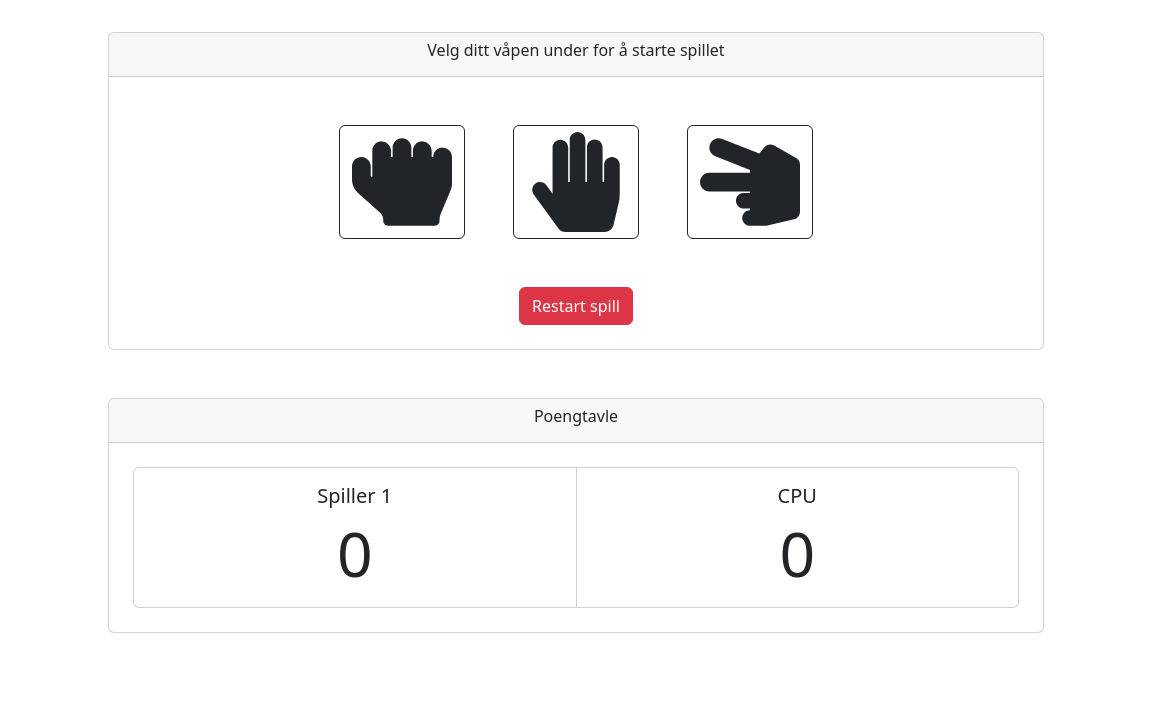
Test case: Sjekk at "Motstander valgte" er synlig når vi velger et våpen › Sjekk at "Motstander valgte" er synlig hvis vi klikker saks
Click the button named "saks" at (750, 182), box [687,125,813,239]
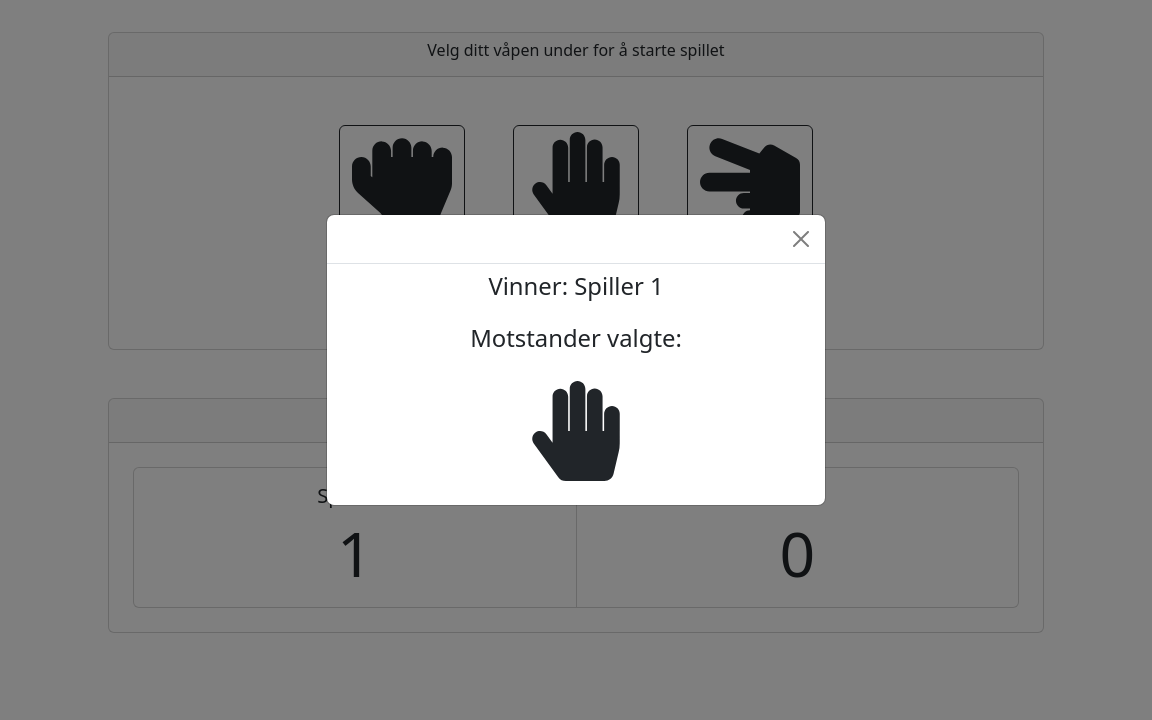
Expected: the heading "Motstander valgte:" is shown, [470,322,682,482]
